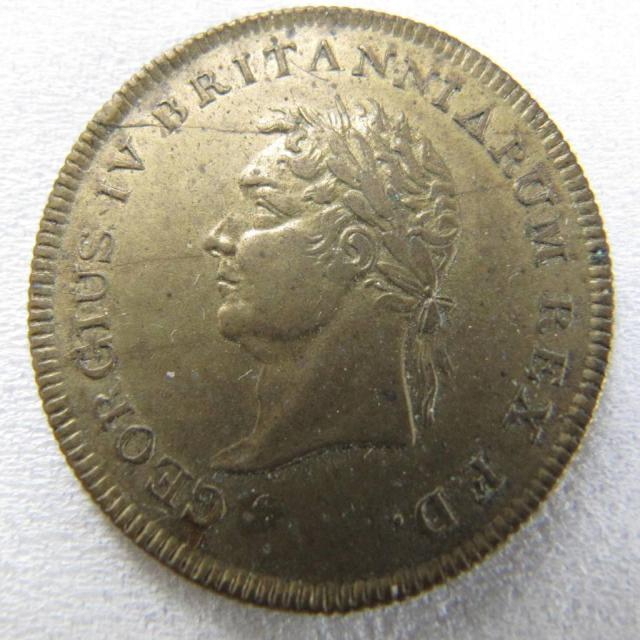Coin: (22, 6, 629, 615)
